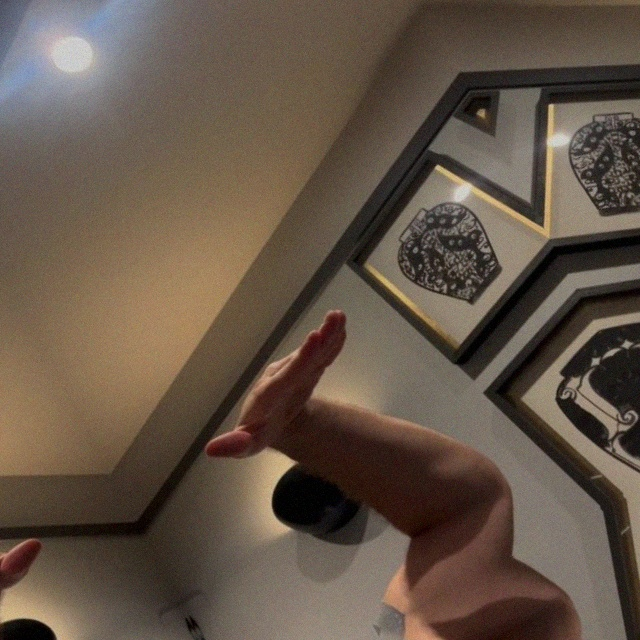Paper: (173, 302, 390, 481)
